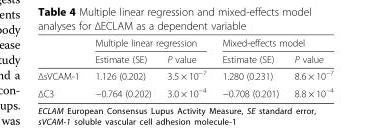table: (37, 36, 332, 98)
table column: (86, 36, 158, 98), (213, 36, 285, 98), (158, 36, 213, 98), (37, 36, 86, 98), (285, 36, 332, 98)
table column header: (37, 36, 332, 66)
table row: (37, 66, 332, 83), (37, 50, 332, 66), (37, 83, 332, 98), (37, 36, 332, 50)
table spanning cell: (86, 36, 213, 50), (213, 36, 332, 50)
